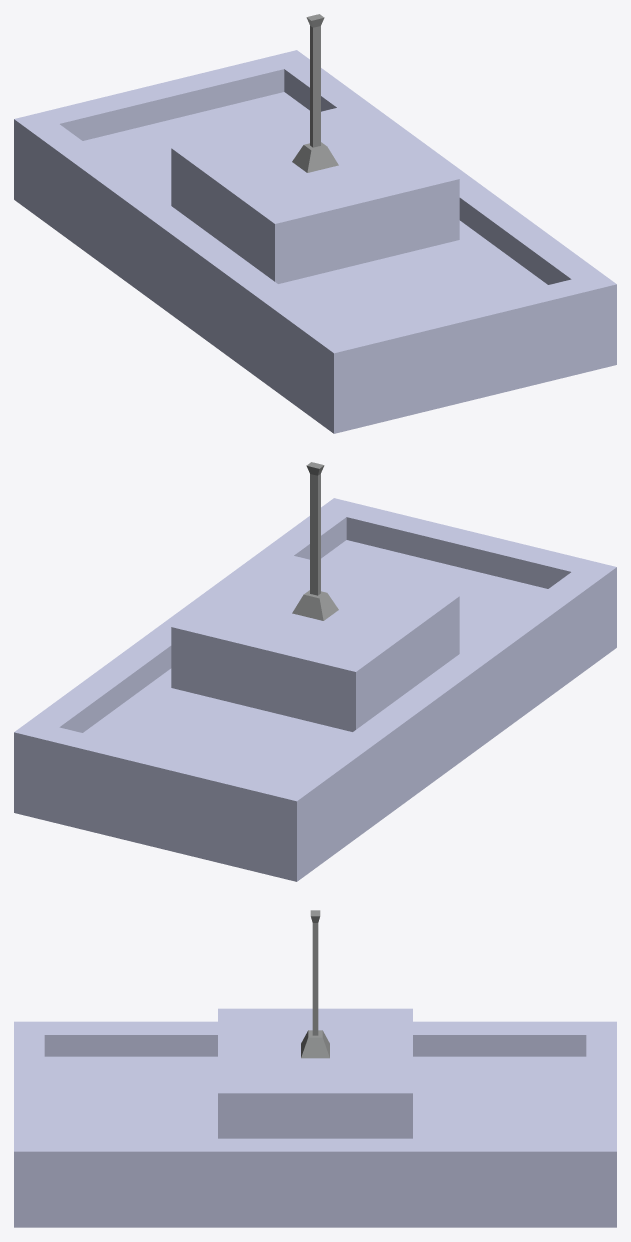
The model's file is building_1x2_6_r.glb.
3 views of the same model, one above another, from view 1: azimuth 30°, elevation 25°; view 2: azimuth 150°, elevation 25°; view 3: azimuth 270°, elevation 25° (orthographic). The views are drawn at different scales.
Parts seen in each view (by area): view 1: ThirdFloor; view 2: ThirdFloor; view 3: ThirdFloor.
Boxes of the visible parts, <box> form: ThirdFloor: <box>14,14,616,433</box>; ThirdFloor: <box>14,462,616,881</box>; ThirdFloor: <box>14,910,616,1227</box>.
Size of the model in its own units: 1.82 by 1.63 by 3.56.
